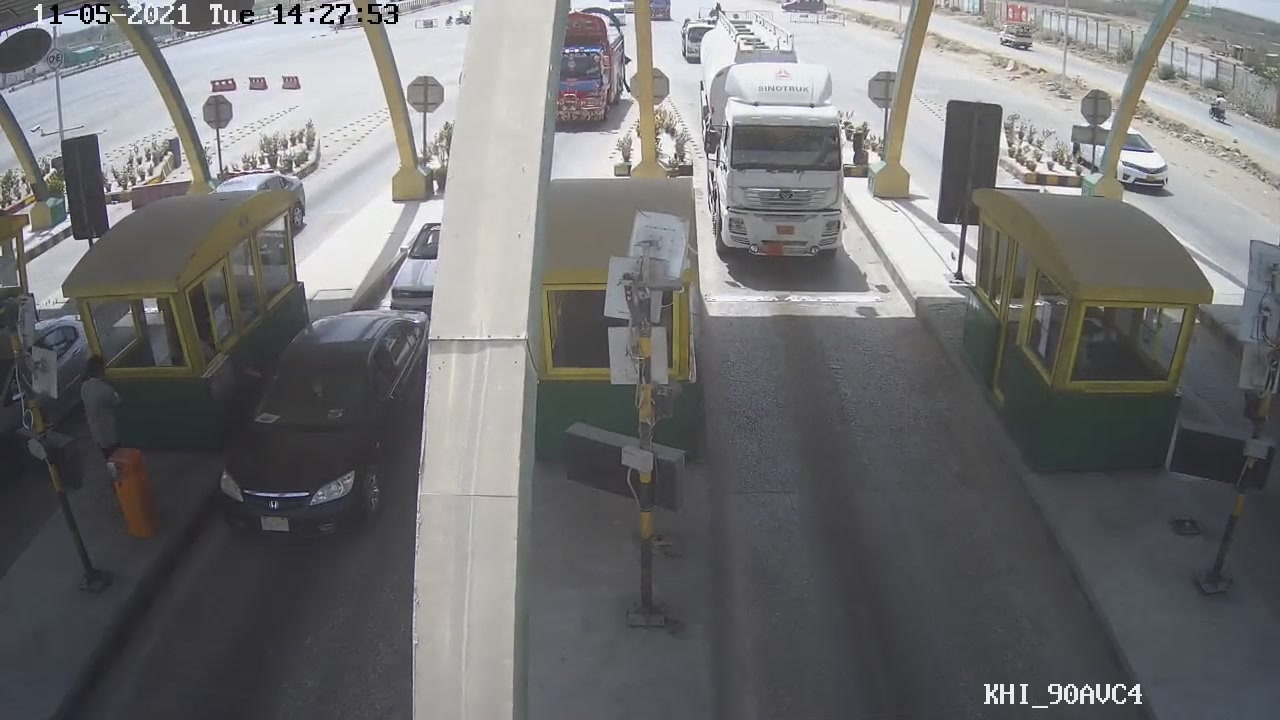F6: (687, 1, 866, 280)
